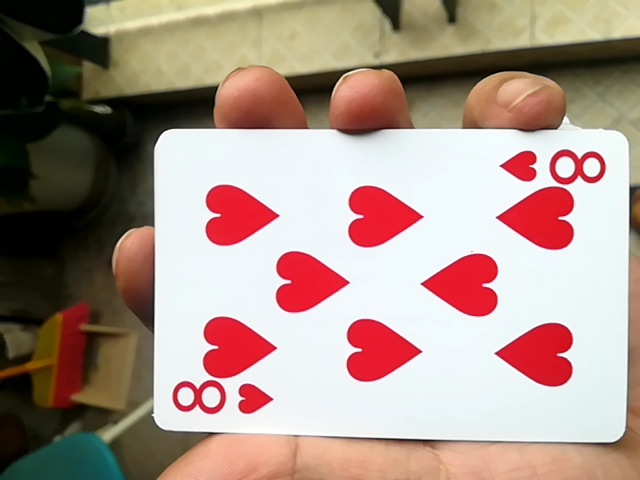hx 8: (133, 122, 620, 449)
